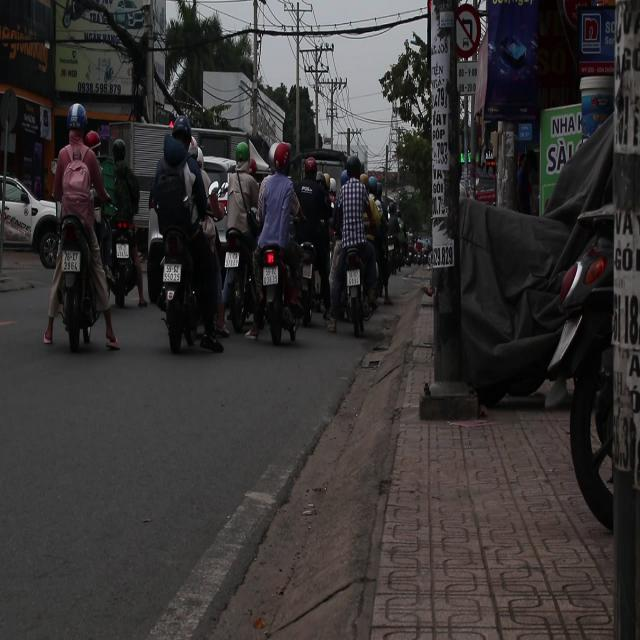car: (0, 174, 59, 262), (292, 149, 350, 190)
motorbike: (49, 213, 97, 349), (160, 242, 212, 345), (256, 246, 300, 352), (110, 219, 136, 311), (340, 254, 370, 326)
